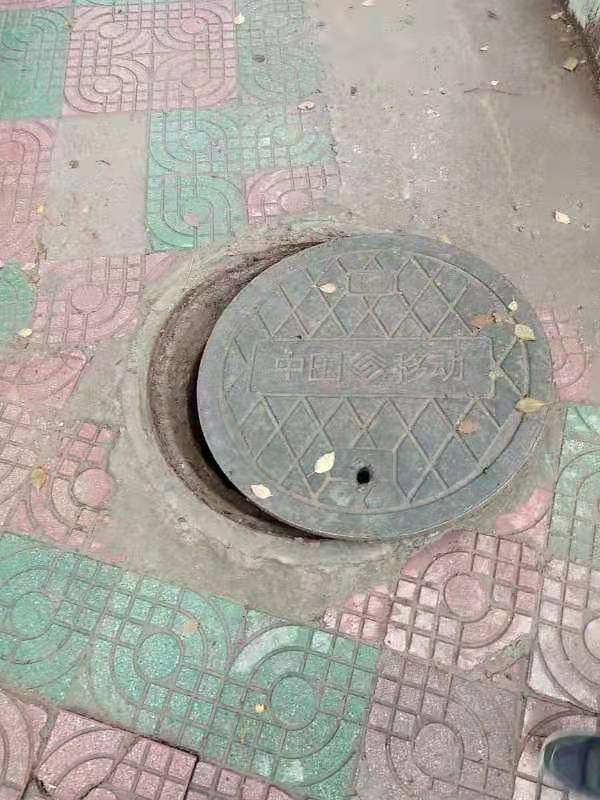well: (135, 226, 567, 553)
